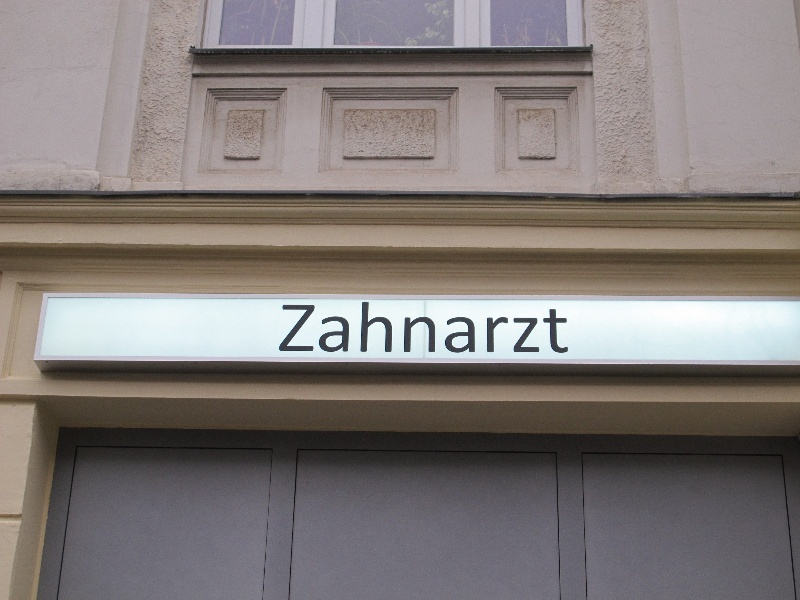text: (289, 302, 304, 354), (305, 302, 320, 354), (321, 302, 336, 354), (337, 302, 352, 354), (353, 302, 368, 354), (369, 302, 384, 354), (385, 302, 400, 354), (401, 302, 416, 354), (417, 302, 432, 354), (433, 302, 448, 354), (449, 302, 464, 354), (465, 302, 480, 354), (481, 302, 496, 354), (497, 302, 512, 354), (513, 302, 528, 354), (529, 302, 544, 354), (545, 302, 560, 354), (561, 302, 570, 354), (283, 302, 288, 354)
